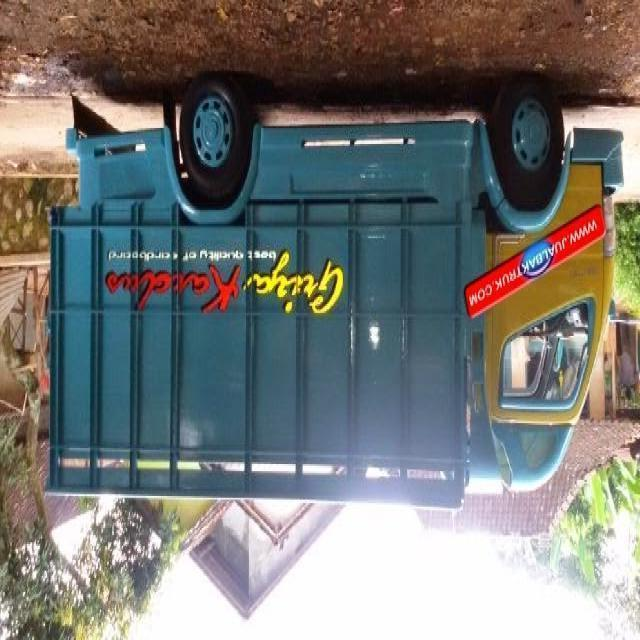truck: (44, 66, 626, 514)
